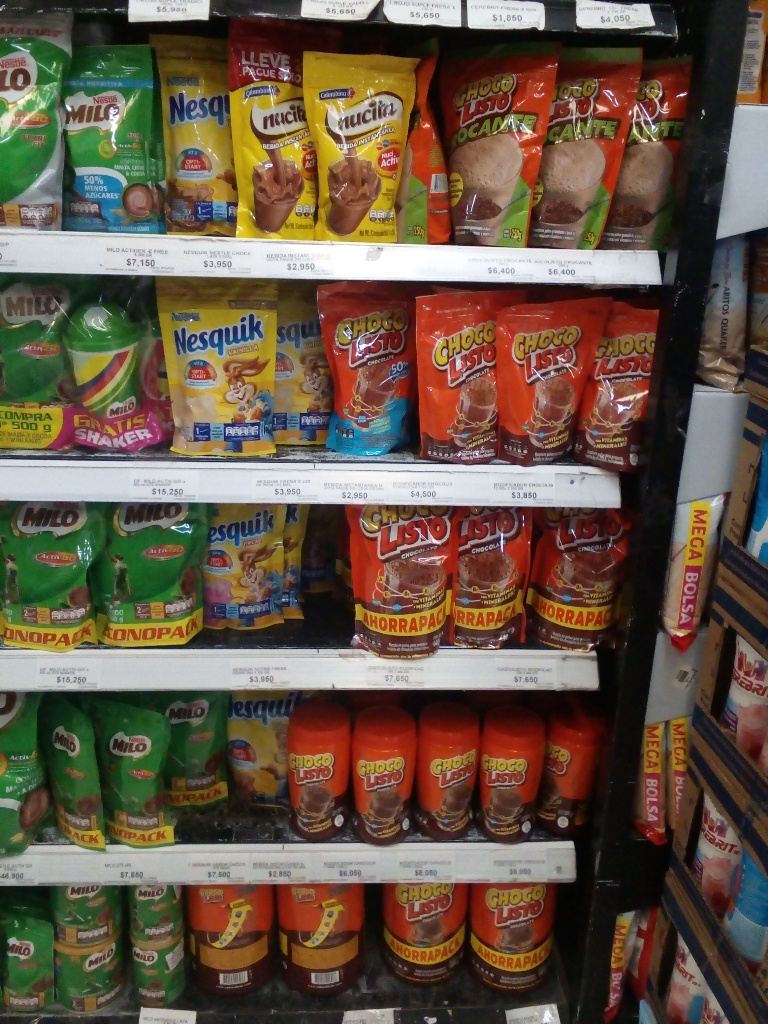COL0170102DYP25000: (435, 37, 557, 261)
COL0170103DYP20000: (411, 289, 505, 465)
COL0170103DYP44000: (340, 502, 452, 657)
COL0170103TRR00100: (183, 884, 277, 994)
COL0170103TRR30000: (281, 707, 354, 841)
COL0170104DYP20000: (309, 276, 429, 463)
COL0170203DYP10000: (1, 910, 61, 1015)
COL0170203DYP25000: (35, 695, 107, 852)
COL0170203DYP50000: (0, 275, 85, 454)
COL0170203LAT20000: (128, 936, 189, 1005)
COL0170203LAT40000: (51, 940, 126, 1018)
COL0170205DYP20000: (49, 43, 163, 235)
COL0170205DYP50000: (1, 3, 65, 235)
COL0170303DYP20000: (224, 690, 286, 810)
COL0170305DYP20000: (197, 497, 303, 632)
COL0170306DYP20000: (150, 272, 278, 462)
